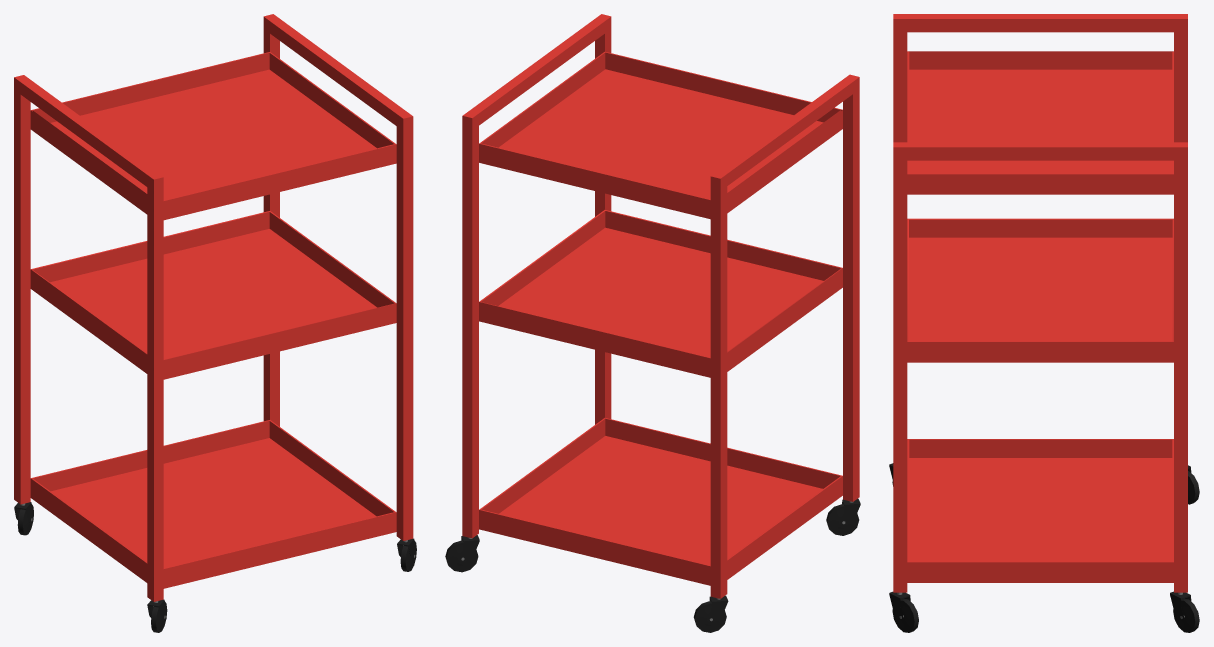
File: Red Push Cart.fbx
3 views of the same model, side by side, from view 1: azimuth 30°, elevation 25°; view 2: azimuth 150°, elevation 25°; view 3: azimuth 270°, elevation 25° (orthographic). The views are drawn at different scales.
Visible parts, largest first — view 1: Cube.074; view 2: Cube.074; view 3: Cube.074.
Part boxes in pixels (x1,y1,x2,y2): Cube.074: [14, 14, 416, 632]; Cube.074: [445, 14, 860, 632]; Cube.074: [889, 14, 1199, 632].
Bounding box in the file's own units: 0.4803 × 0.4427 × 0.7602.
Materials: 1 (1 with a texture image).
